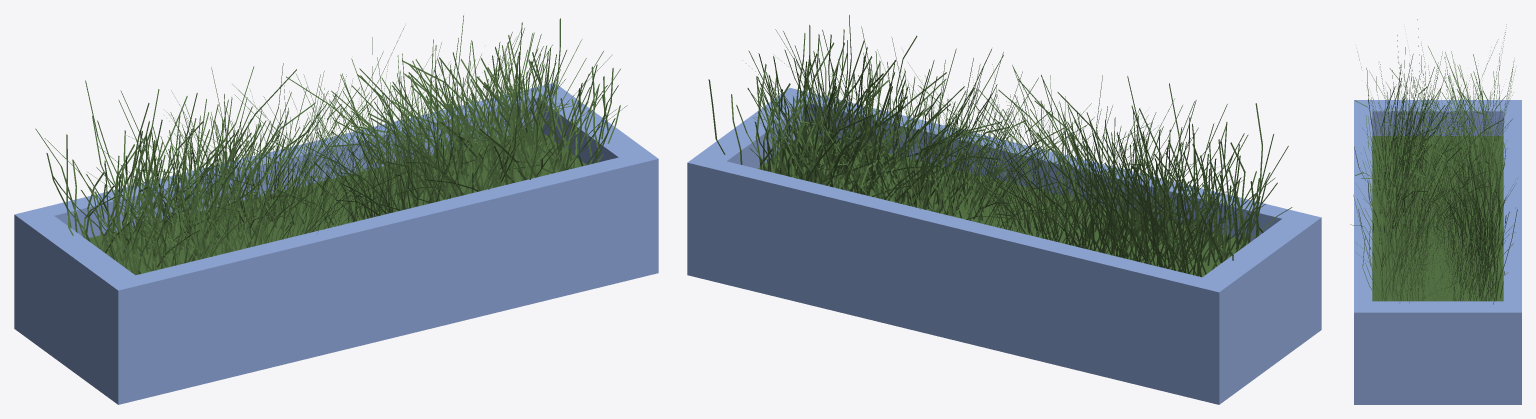
File: GrassPot.fbx
3 views of the same model, side by side, from view 1: azimuth 30°, elevation 25°; view 2: azimuth 150°, elevation 25°; view 3: azimuth 270°, elevation 25° (orthographic). The views are drawn at different scales.
Visible parts, largest first — view 1: Cube, Cube.001; view 2: Cube, Cube.001; view 3: Cube, Cube.001.
Boxes of the visible parts, left/top/right/bottom form: Cube: left=14, top=15, right=658, bottom=404; Cube.001: left=89, top=130, right=586, bottom=274; Cube: left=687, top=15, right=1321, bottom=404; Cube.001: left=758, top=135, right=1250, bottom=277; Cube: left=1350, top=19, right=1521, bottom=404; Cube.001: left=1372, top=136, right=1503, bottom=301.
Size of the model in its own units: 1000 by 428 by 338.
